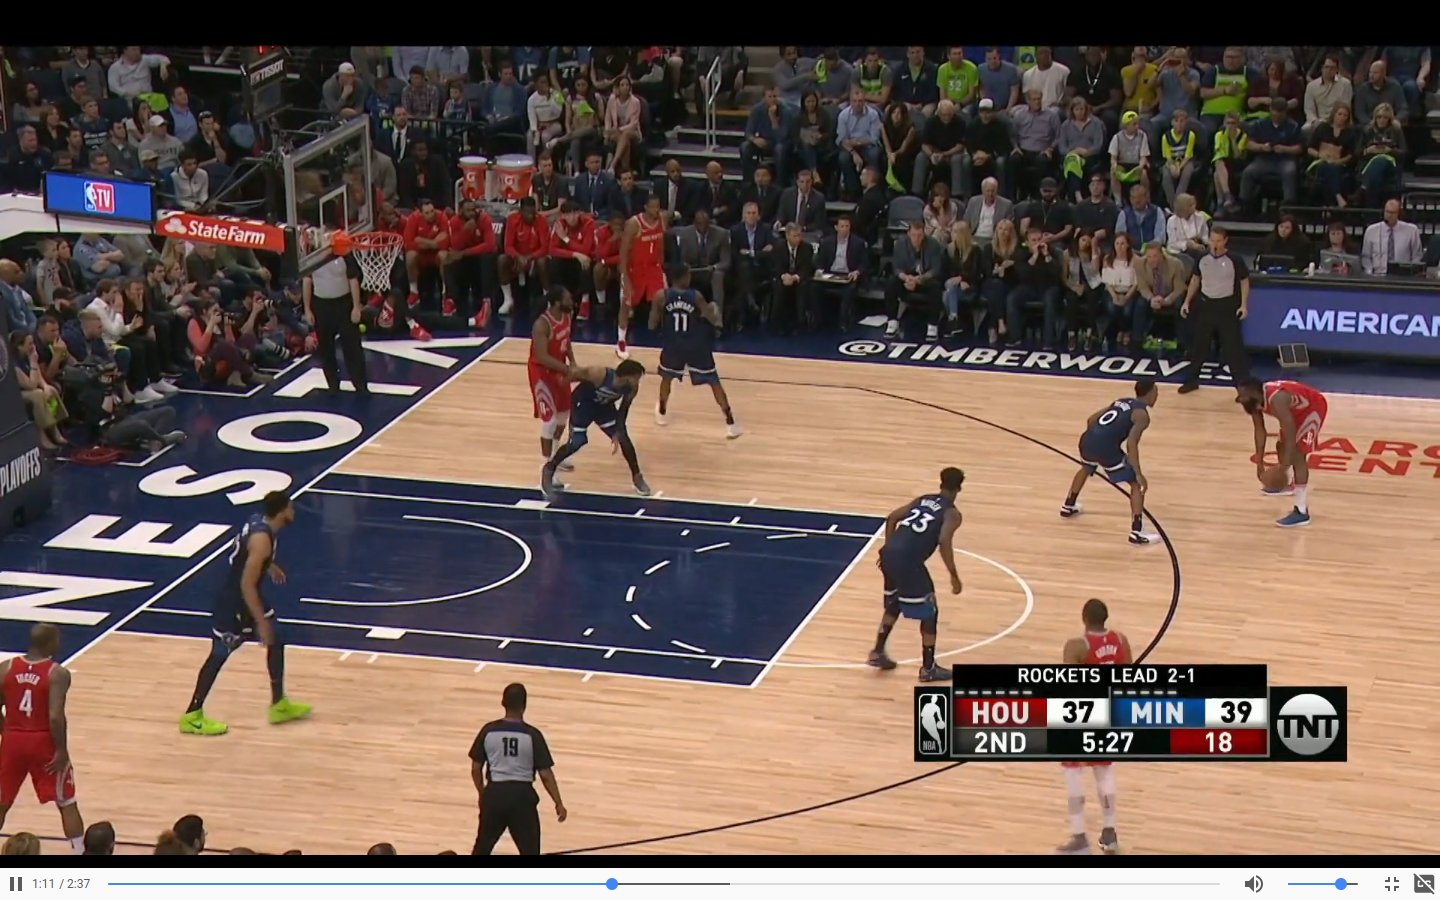basketball: (1259, 466, 1295, 494)
basketball player: (179, 492, 301, 739), (868, 462, 967, 676), (1, 620, 88, 837), (1064, 376, 1164, 557), (648, 272, 732, 425), (1238, 377, 1321, 525), (521, 288, 573, 503), (572, 352, 645, 503), (621, 197, 676, 357)
referee: (467, 679, 564, 854), (1176, 229, 1252, 392), (308, 242, 368, 419)
